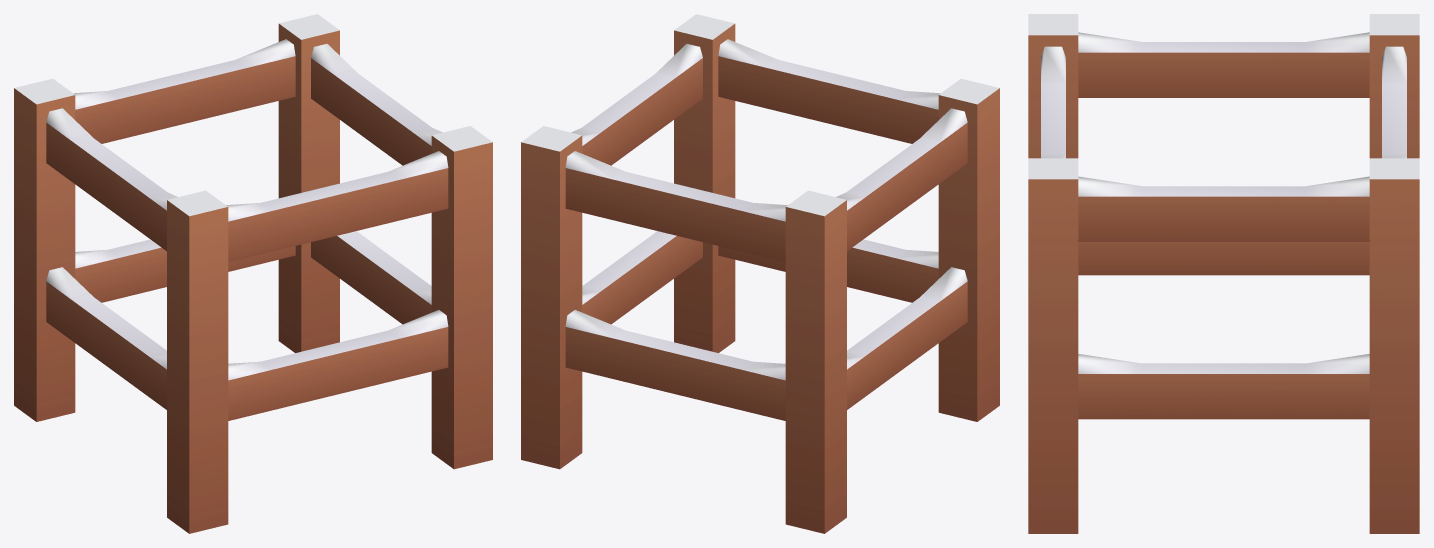
Rendered from kenney-tower-defense-snow-wood-structure-high.glb.
3 renders of one model, left to right at view 1: azimuth 30°, elevation 25°; view 2: azimuth 150°, elevation 25°; view 3: azimuth 270°, elevation 25°, orthographic. The views are drawn at different scales.
Visible parts, largest first — view 1: snow-wood-structure-high; view 2: snow-wood-structure-high; view 3: snow-wood-structure-high.
Part boxes in pixels (x1,y1,x2,y2): snow-wood-structure-high: (14,14,492,533); snow-wood-structure-high: (521,14,999,533); snow-wood-structure-high: (1028,14,1419,533).
Bounding box in the file's own units: 1 × 1 × 1.
Materials: 1 (1 with a texture image).
